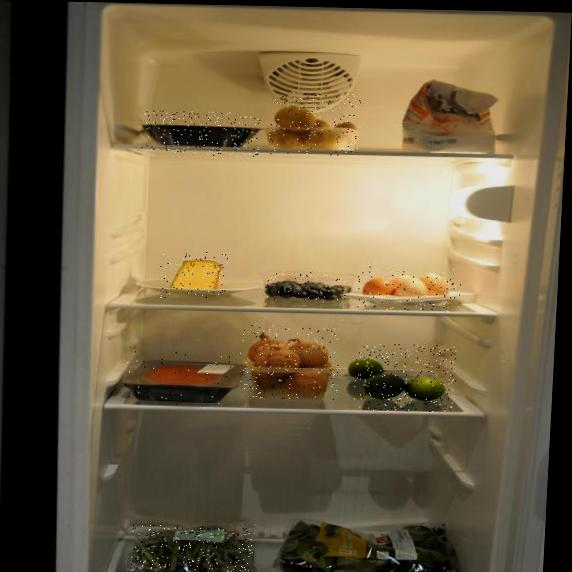cheese: (158, 251, 228, 299)
eggs: (356, 266, 462, 313)
green beans: (130, 525, 254, 572)
lime: (353, 343, 458, 413)
meat: (123, 351, 243, 409), (141, 110, 260, 157)
olive: (267, 271, 347, 303)
onion: (238, 325, 340, 400)
potatoes: (268, 92, 362, 156)
